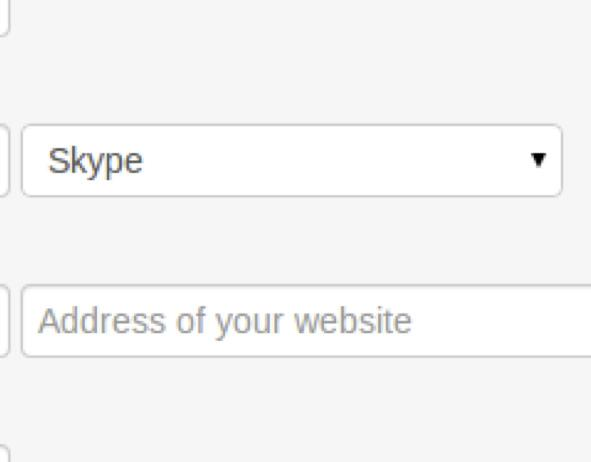field: (17, 122, 573, 202)
